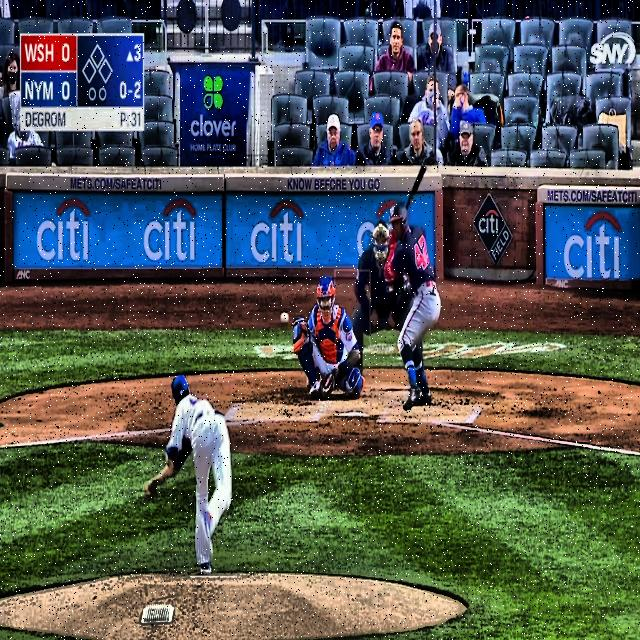baseball: (280, 312, 288, 324)
